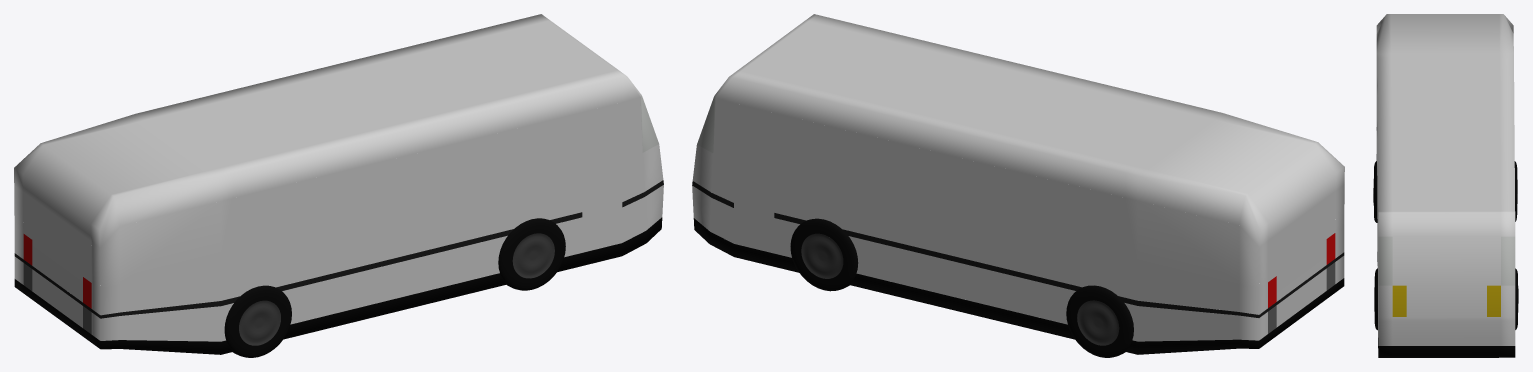
Rendered from bus-calle.glb.
3 renders of one model, left to right at view 1: azimuth 30°, elevation 25°; view 2: azimuth 150°, elevation 25°; view 3: azimuth 270°, elevation 25°, orthographic. The views are drawn at different scales.
Visible parts, largest first — view 1: Starter_bus, FR001, RR001; view 2: Starter_bus, RL001, FL001; view 3: Starter_bus, RR001, FR001, FL001, RL001.
Part boxes in pixels (x1=…): Starter_bus: x1=14, y1=14, x2=663, y2=354; FR001: x1=498, y1=218, x2=565, y2=290; RR001: x1=224, y1=285, x2=291, y2=357; Starter_bus: x1=692, y1=14, x2=1344, y2=354; RL001: x1=1066, y1=285, x2=1133, y2=357; FL001: x1=790, y1=218, x2=858, y2=291; Starter_bus: x1=1376, y1=14, x2=1515, y2=357; RR001: x1=1373, y1=161, x2=1377, y2=222; FR001: x1=1374, y1=268, x2=1377, y2=330; FL001: x1=1515, y1=268, x2=1518, y2=329; RL001: x1=1514, y1=161, x2=1517, y2=221.
Bounding box in the file's own units: 8.48 × 2.73 × 2.35.
